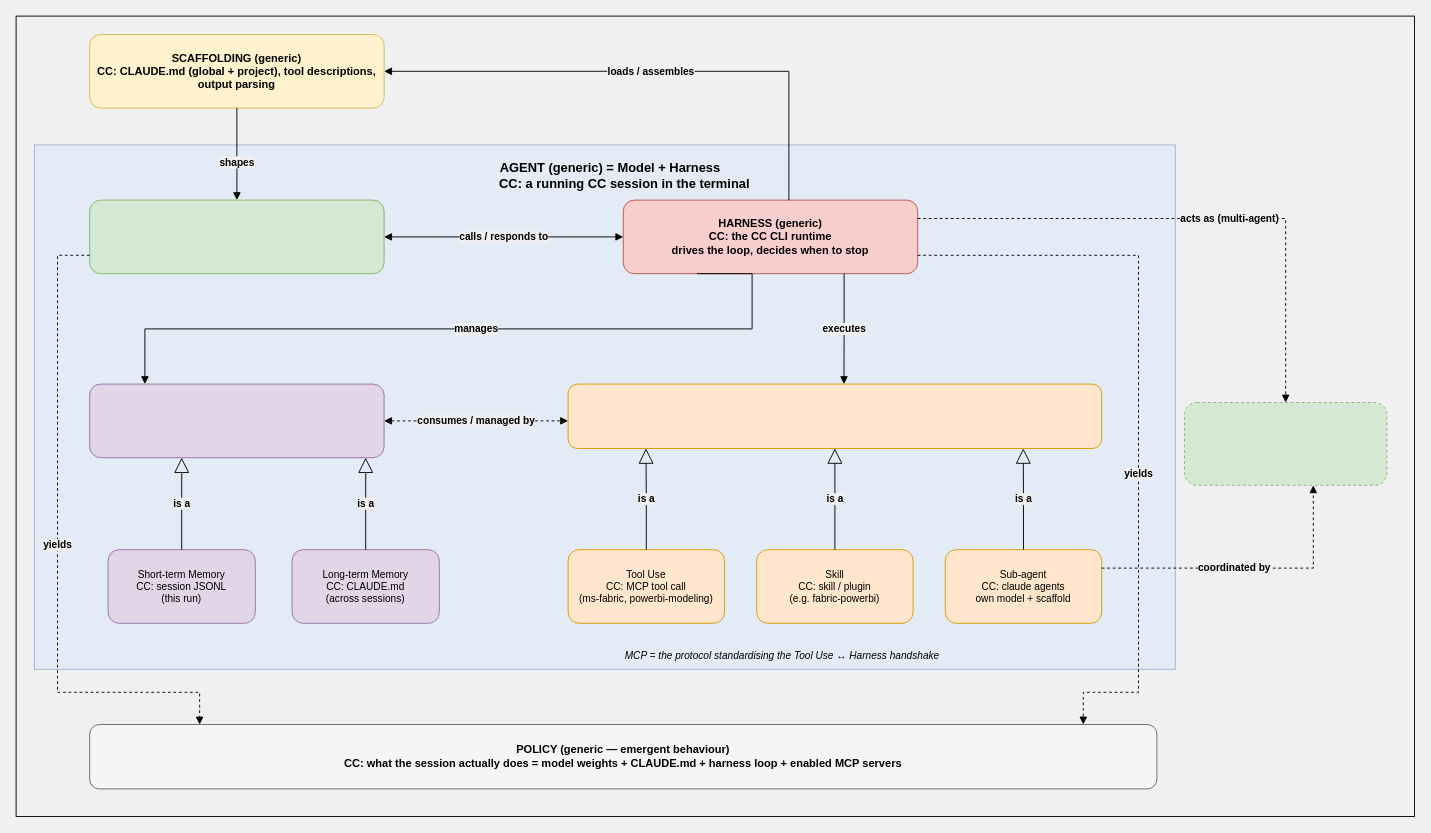
This 1431x833 diagram has some shape labels left out. The shapes that lost their labels are listed below. From the top down, each one's centre as x and y in pixels, then its label:
At (236,236): "MODEL (generic) CC: Claude (Opus / Sonnet) stateless, no loop".
At (236,420): "CONTEXT ENGINEERING (generic) CC: settings.json tiers, /compact, /resume".
At (834,415): "CAPABILITIES (superclass) invoked by the harness, results returned to context".
At (1285,443): "ORCHESTRATOR (generic) CC: the session coordinating multiple sub-agents".
